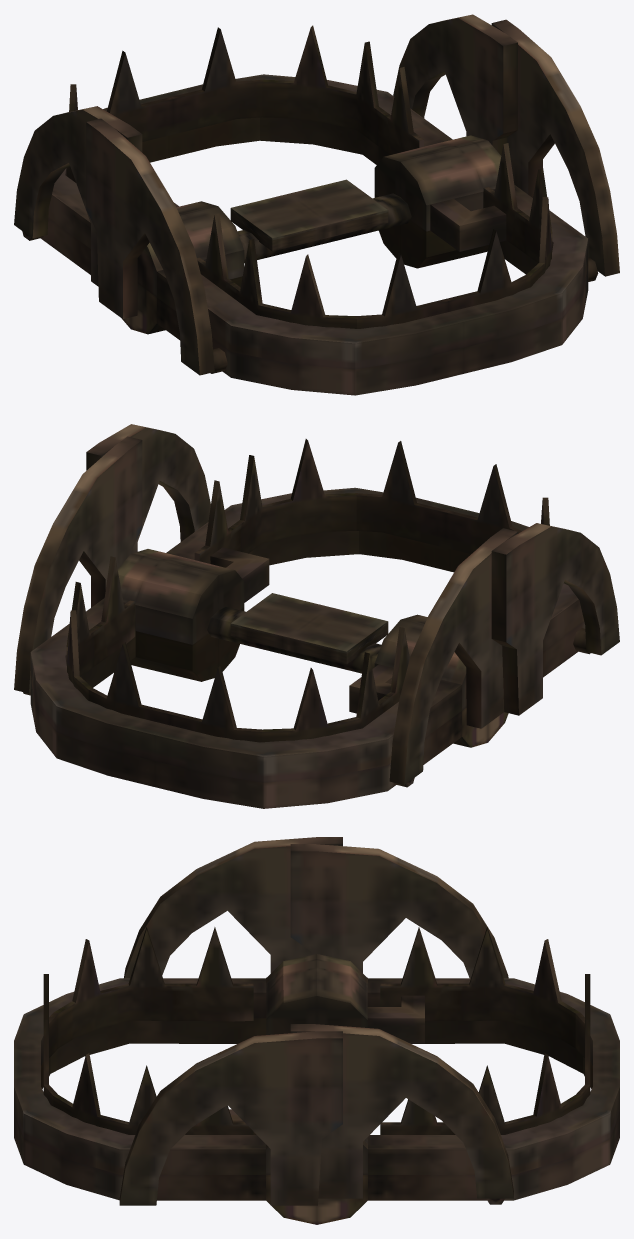
Rendered from projHuntingTrap.fbx.
The picture shows the model from 3 angles, top to bottom: view 1: azimuth 30°, elevation 25°; view 2: azimuth 150°, elevation 25°; view 3: azimuth 270°, elevation 25°; orthographic projection.
Visible parts, largest first — view 1: trab3; view 2: trab3; view 3: trab3.
Part boxes in pixels (left/top/right/bottom): trab3: left=14, top=14, right=619, bottom=395; trab3: left=14, top=424, right=619, bottom=808; trab3: left=14, top=837, right=619, bottom=1224.
Bounding box in the file's own units: 0.4351 × 0.2032 × 0.5534.
Materials: 1 (1 with a texture image).
